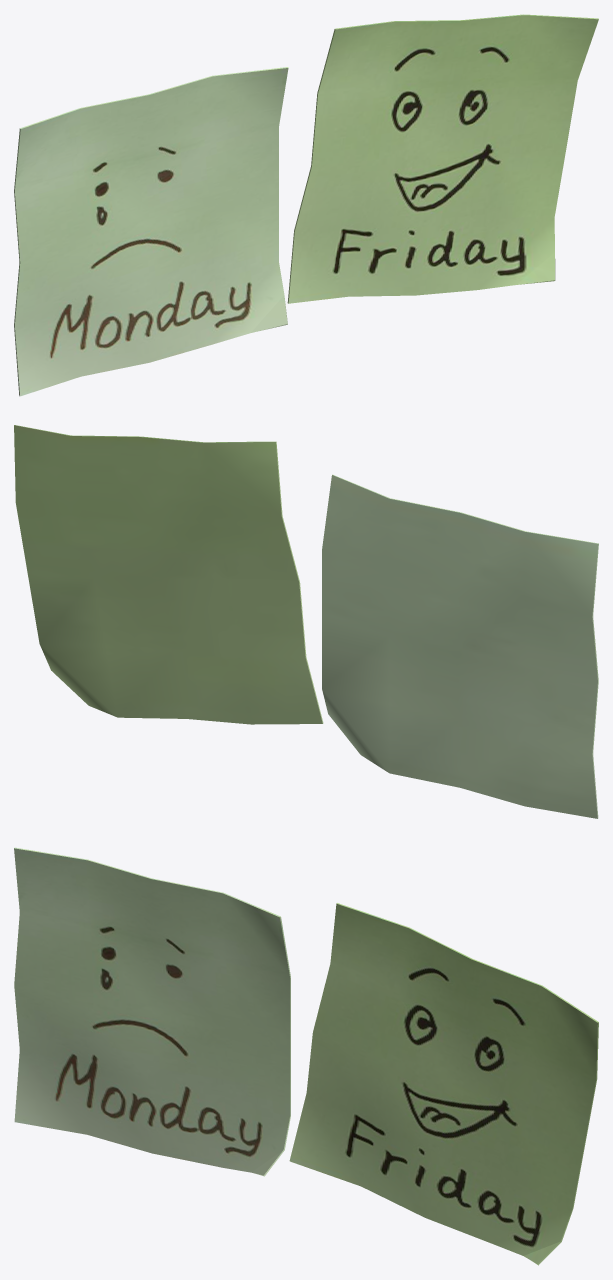
File: Posits.FBX
3 renders of one model, top to bottom at view 1: azimuth 30°, elevation 25°; view 2: azimuth 150°, elevation 25°; view 3: azimuth 330°, elevation 25°, orthographic. The views are drawn at different scales.
Visible parts, largest first — view 1: Posit 2, Posit 1; view 2: Posit 2, Posit 1; view 3: Posit 2, Posit 1.
Part boxes in pixels (<box>): Posit 2: <box>287,14,598,303</box>; Posit 1: <box>14,67,288,396</box>; Posit 2: <box>14,425,323,724</box>; Posit 1: <box>322,474,598,818</box>; Posit 2: <box>289,903,598,1265</box>; Posit 1: <box>14,847,290,1176</box>.
Bounding box in the file's own units: 17.29 × 8.66 × 0.9441.
Materials: 1 (1 with a texture image).
